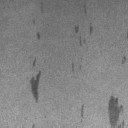red iron: (108, 94, 125, 128), (29, 70, 42, 104), (120, 56, 128, 64), (74, 24, 80, 34), (78, 36, 82, 48), (80, 105, 84, 117), (32, 56, 36, 66), (90, 22, 93, 34), (36, 32, 40, 40)
